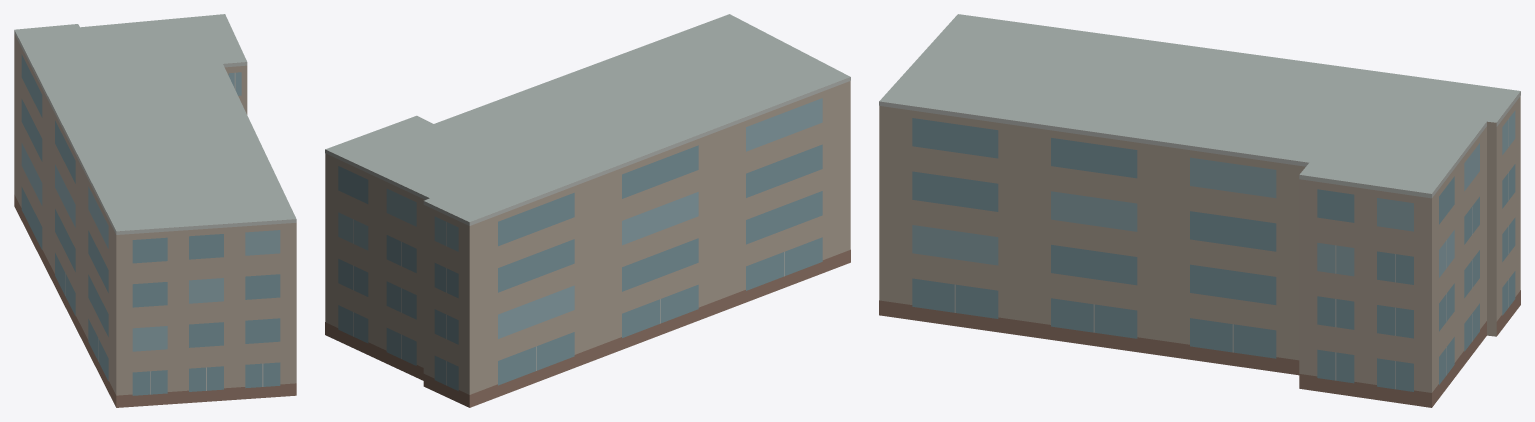
File: survey-upis-32471873.glb
The picture shows the model from 3 angles, left to right: view 1: azimuth 30°, elevation 25°; view 2: azimuth 150°, elevation 25°; view 3: azimuth 270°, elevation 25°; orthographic projection. The views are drawn at different scales.
Parts seen in each view (by area): view 1: survey-upis-32471873.tmp; view 2: survey-upis-32471873.tmp; view 3: survey-upis-32471873.tmp.
Boxes of the visible parts, bbox=[...] form: survey-upis-32471873.tmp: bbox=[14, 14, 296, 407]; survey-upis-32471873.tmp: bbox=[325, 14, 850, 407]; survey-upis-32471873.tmp: bbox=[879, 14, 1520, 407].
Bounding box in the file's own units: 21.3 × 11.8 × 32.08.
